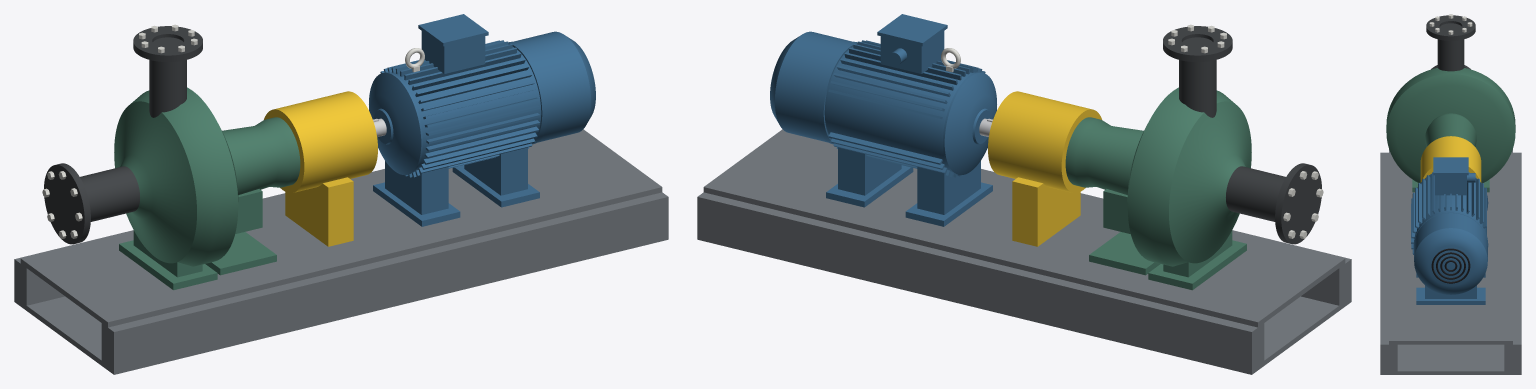
3 renders of one model, left to right at view 1: azimuth 30°, elevation 25°; view 2: azimuth 150°, elevation 25°; view 3: azimuth 270°, elevation 25°, orthographic. The views are drawn at different scales.
Parts seen in each view (by area): view 1: CM_BASE, CM_PUMP_CASING, CM_MOTOR_FRAME, CM_COUPLING_GUARD, CM_NOZZLES, CM_BEARING_BRACKET, CM_MOTOR_FEET, CM_MOTOR_FAN_COVER, CM_MOTOR_END_SHIELDS, CM_MOTOR_TERMINAL_BOX, CM_NOZZLE_BOLTS; view 2: CM_BASE, CM_PUMP_CASING, CM_MOTOR_FRAME, CM_COUPLING_GUARD, CM_NOZZLES, CM_BEARING_BRACKET, CM_MOTOR_FEET, CM_MOTOR_FAN_COVER, CM_MOTOR_END_SHIELDS, CM_MOTOR_TERMINAL_BOX, CM_NOZZLE_BOLTS; view 3: CM_BASE, CM_PUMP_CASING, CM_MOTOR_FAN_COVER, CM_MOTOR_FRAME, CM_NOZZLES, CM_COUPLING_GUARD, CM_MOTOR_TERMINAL_BOX, CM_BEARING_BRACKET, CM_MOTOR_FEET, CM_MOTOR_FAN_GRILLE, CM_MOTOR_END_SHIELDS, CM_NOZZLE_BOLTS.
Boxes of the visible parts, x1=… form: CM_BASE: x1=14, y1=129, x2=668, y2=374; CM_PUMP_CASING: x1=114, y1=87, x2=238, y2=290; CM_MOTOR_FRAME: x1=380, y1=40, x2=541, y2=177; CM_COUPLING_GUARD: x1=264, y1=91, x2=377, y2=246; CM_NOZZLES: x1=44, y1=26, x2=202, y2=244; CM_BEARING_BRACKET: x1=205, y1=117, x2=300, y2=275; CM_MOTOR_FEET: x1=373, y1=147, x2=539, y2=226; CM_MOTOR_FAN_COVER: x1=512, y1=31, x2=595, y2=142; CM_MOTOR_END_SHIELDS: x1=369, y1=41, x2=547, y2=175; CM_MOTOR_TERMINAL_BOX: x1=418, y1=14, x2=488, y2=73; CM_NOZZLE_BOLTS: x1=42, y1=24, x2=197, y2=238; CM_BASE: x1=697, y1=129, x2=1351, y2=374; CM_PUMP_CASING: x1=1127, y1=87, x2=1251, y2=290; CM_MOTOR_FRAME: x1=824, y1=40, x2=985, y2=177; CM_COUPLING_GUARD: x1=988, y1=91, x2=1101, y2=246; CM_NOZZLES: x1=1163, y1=26, x2=1321, y2=244; CM_BEARING_BRACKET: x1=1065, y1=117, x2=1160, y2=275; CM_MOTOR_FEET: x1=826, y1=147, x2=992, y2=226; CM_MOTOR_FAN_COVER: x1=770, y1=31, x2=853, y2=142; CM_MOTOR_END_SHIELDS: x1=818, y1=41, x2=996, y2=175; CM_MOTOR_TERMINAL_BOX: x1=877, y1=14, x2=947, y2=73; CM_NOZZLE_BOLTS: x1=1168, y1=24, x2=1323, y2=238; CM_BASE: x1=1380, y1=149, x2=1521, y2=374; CM_PUMP_CASING: x1=1386, y1=68, x2=1515, y2=192; CM_MOTOR_FAN_COVER: x1=1414, y1=213, x2=1487, y2=294; CM_MOTOR_FRAME: x1=1411, y1=172, x2=1486, y2=254; CM_NOZZLES: x1=1426, y1=15, x2=1475, y2=71; CM_COUPLING_GUARD: x1=1420, y1=136, x2=1481, y2=182; CM_MOTOR_TERMINAL_BOX: x1=1433, y1=157, x2=1475, y2=195; CM_BEARING_BRACKET: x1=1425, y1=113, x2=1476, y2=146; CM_MOTOR_FEET: x1=1416, y1=273, x2=1485, y2=304; CM_MOTOR_FAN_GRILLE: x1=1431, y1=248, x2=1470, y2=283; CM_MOTOR_END_SHIELDS: x1=1413, y1=174, x2=1488, y2=246; CM_NOZZLE_BOLTS: x1=1429, y1=14, x2=1472, y2=34.
Bounding box in the file's own units: 1.77 × 0.837 × 0.548.
